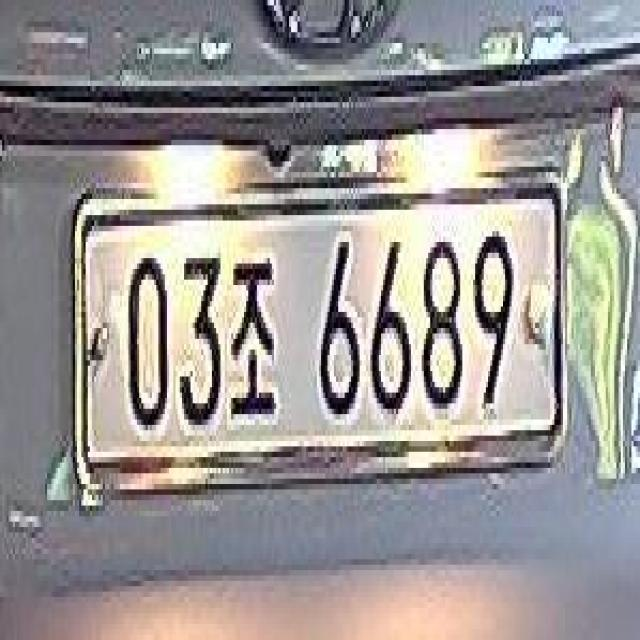illegal_plate: (70, 165, 565, 497)
